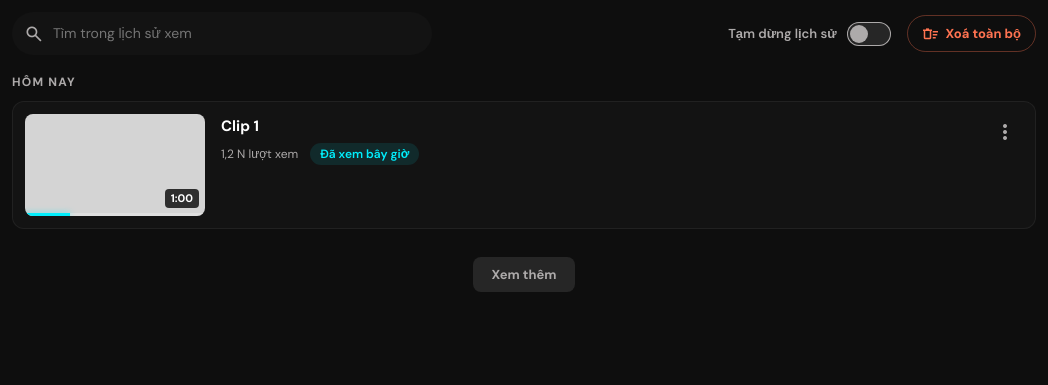
Test: WatchHistorySection › "Xem thêm" appends the next page
Check: the text "Clip 1" is shown, box [221,116,259,136]
Click the button "Xem thêm". click: click(524, 274)
box: [474,257,575,292]
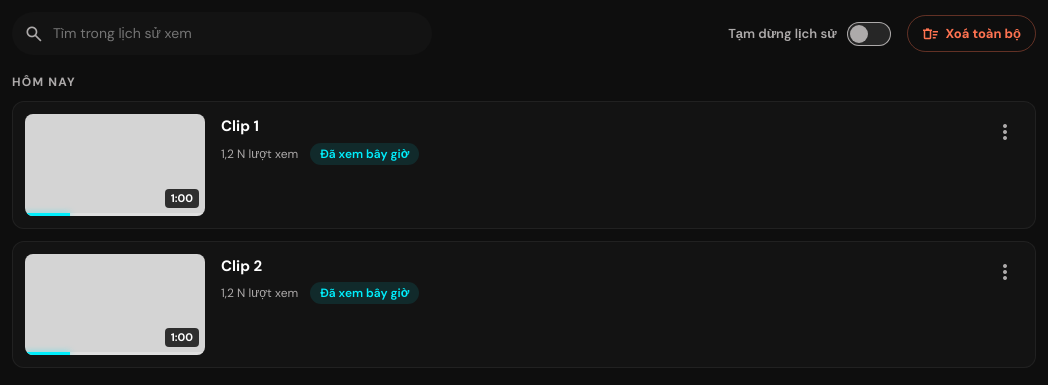
Check: the text "Clip 2" is shown, box [221,256,262,276]
Check: the button "Xem thêm" is gone
